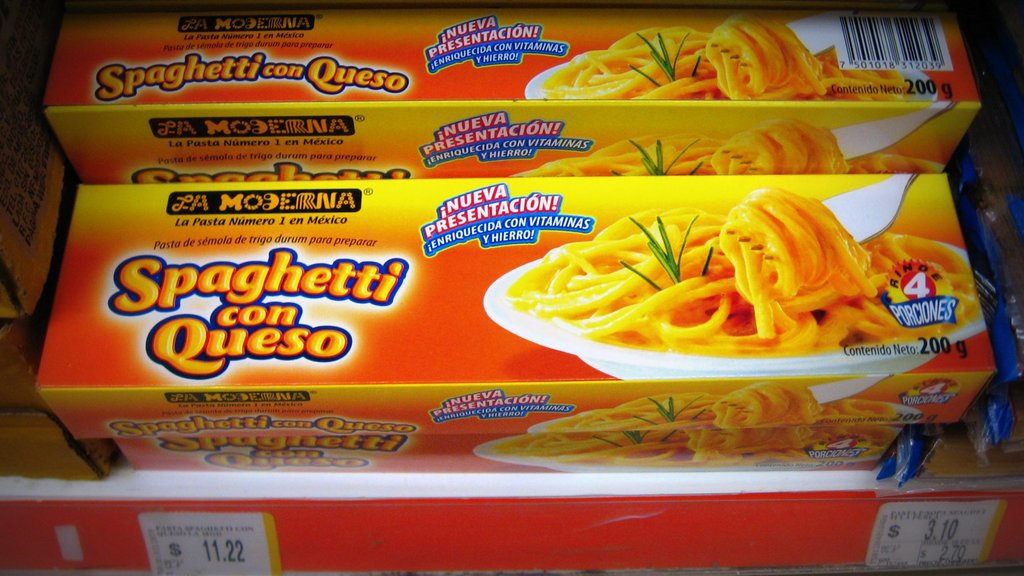pasta: (507, 186, 976, 358), (543, 12, 915, 98), (527, 116, 936, 175), (547, 381, 895, 429), (487, 429, 893, 467)
